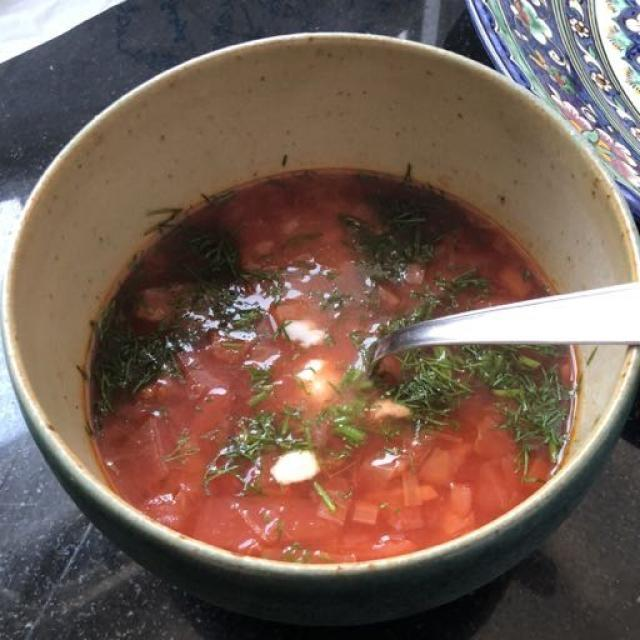soup: (86, 168, 574, 553)
yogurt: (256, 307, 335, 491)
